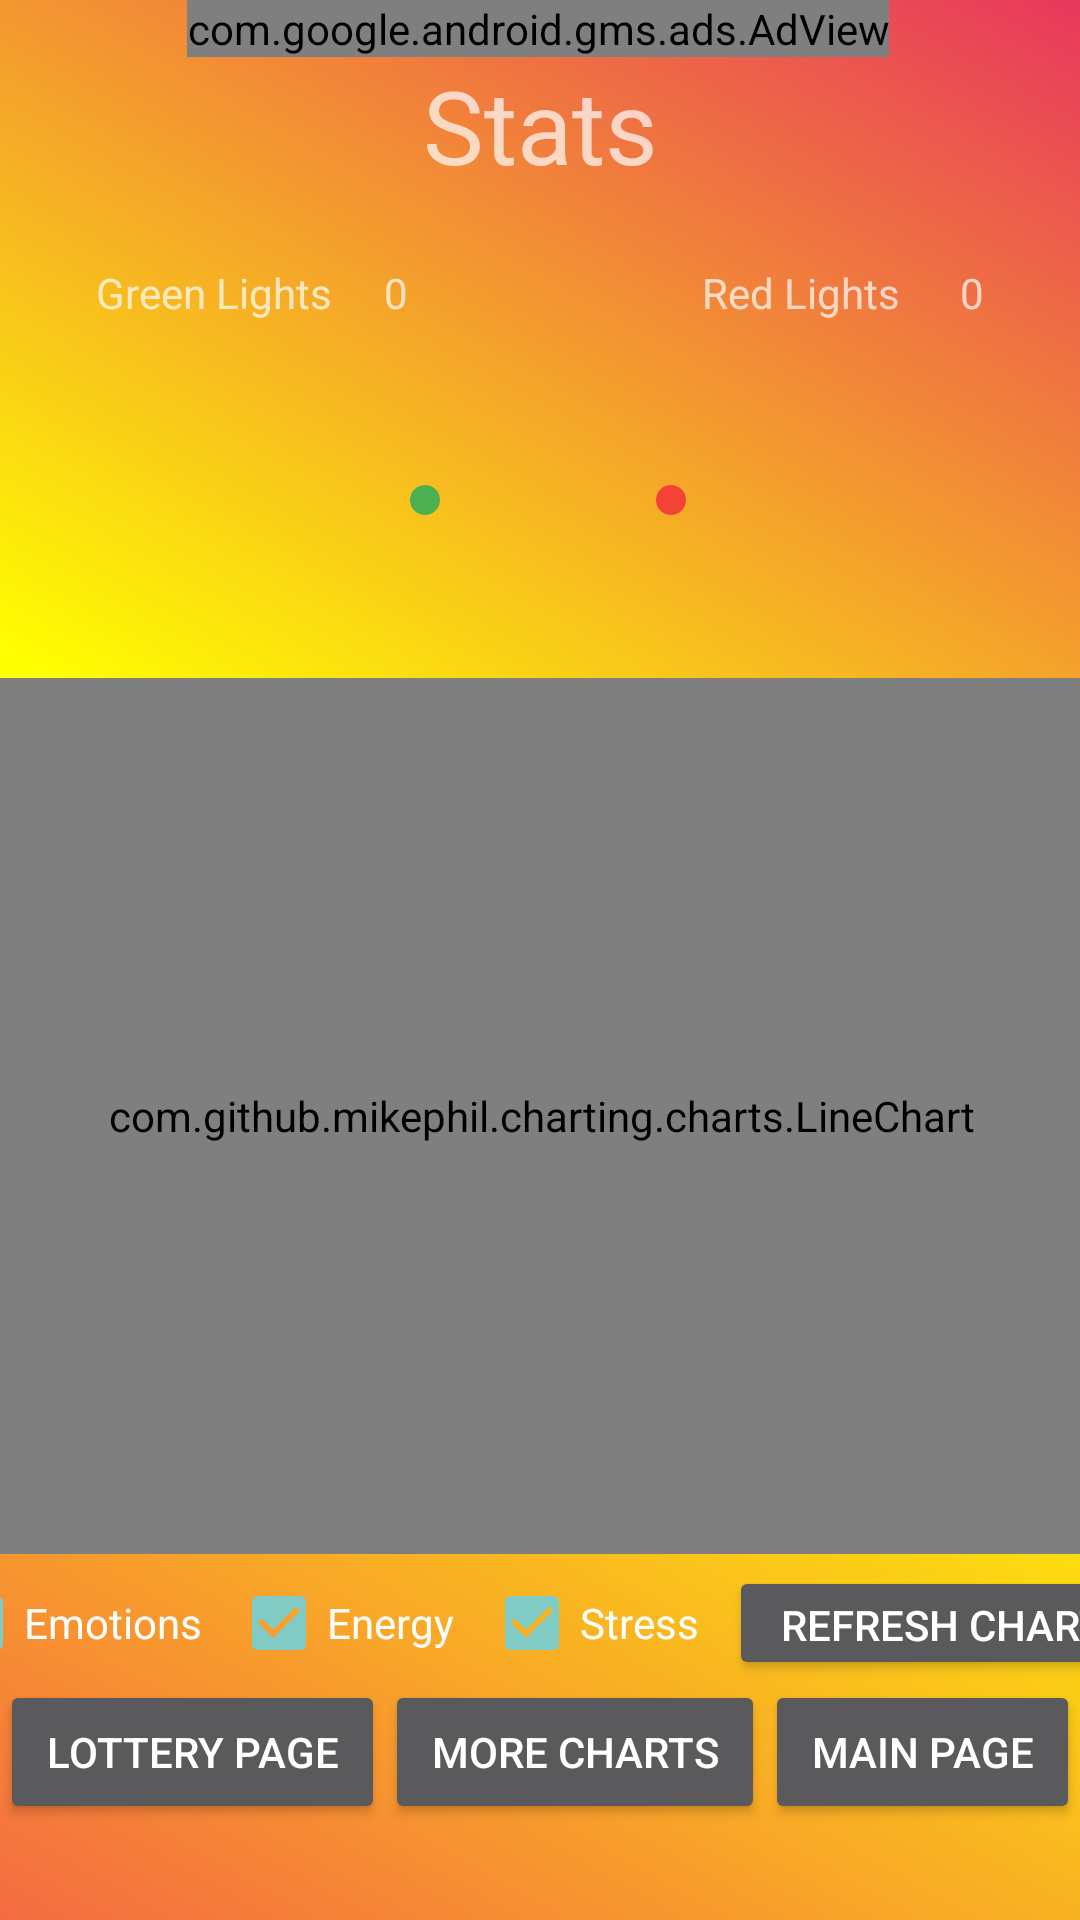

Where icons sit on this 1080w x 1920h app screen, as {"x1": x1, "y1": y1, "x2": x2, "y2": y2}:
greenlightbutton: {"x1": 410, "y1": 485, "x2": 440, "y2": 515}
